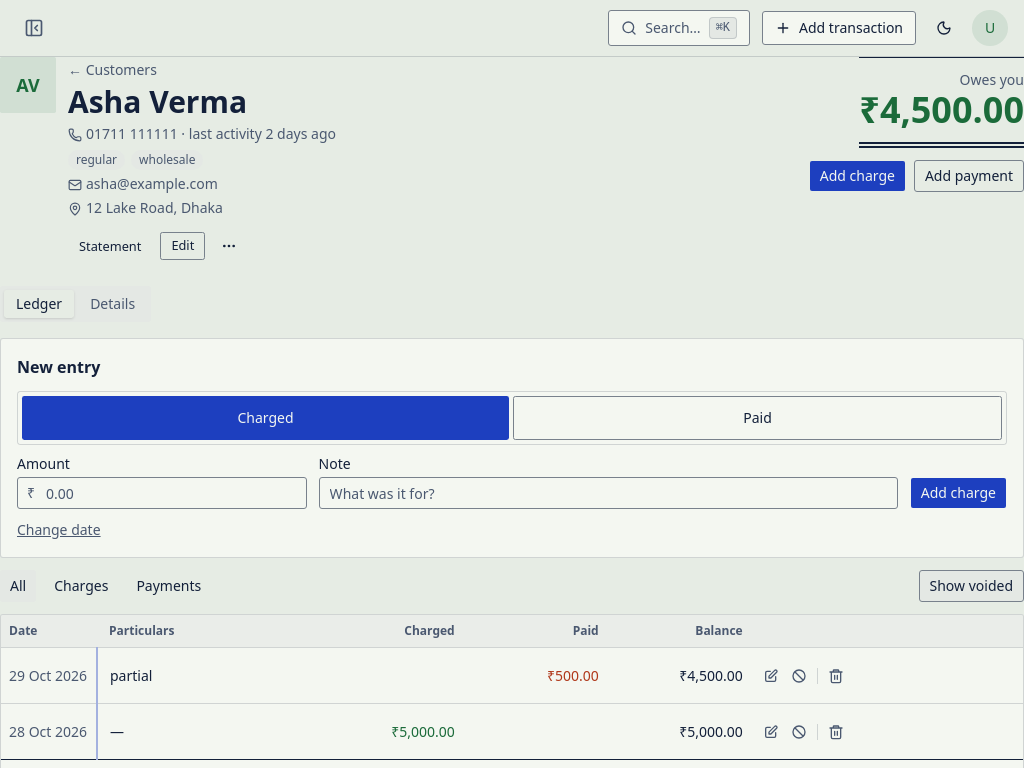
Test: S-31 customer detail v2 › archived: the menu archives through its confirmation, the banner restores, and writes stay hidden while archived
Check: the tab "Ledger" is shown, box [4,290,74,318]
# Owner archives through the header menu + confirmation.
Click the button named "Customer actions": click(229, 246) [213,230,245,262]
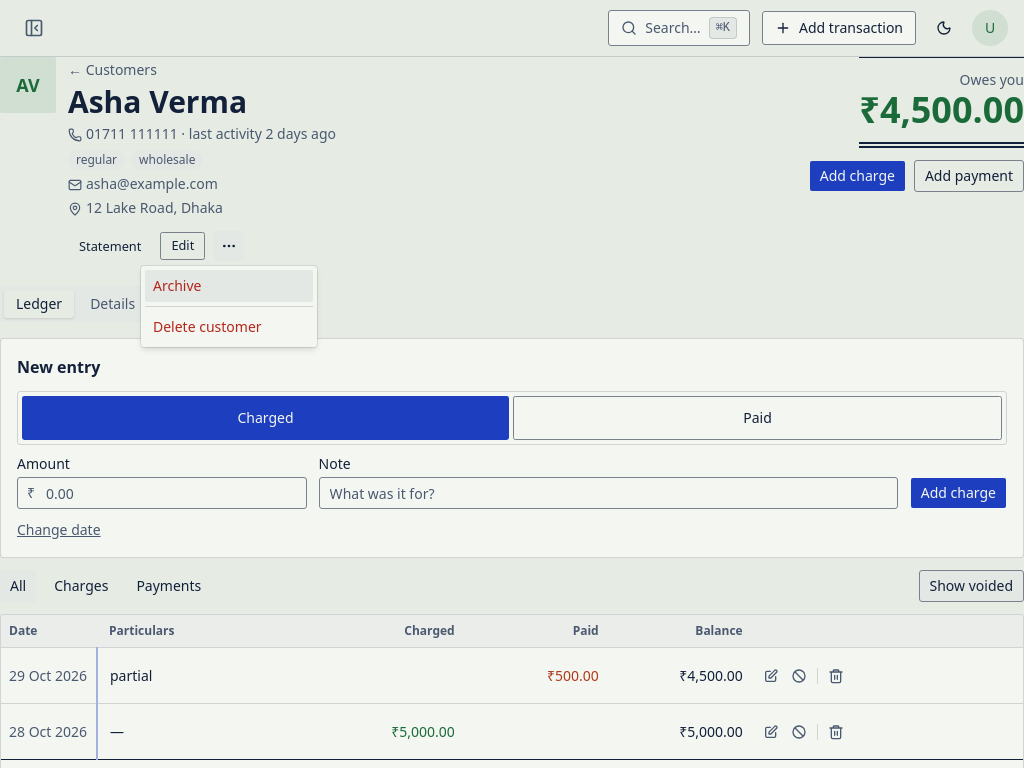
Click the menu item "Archive": click(229, 286) [145,270,313,302]
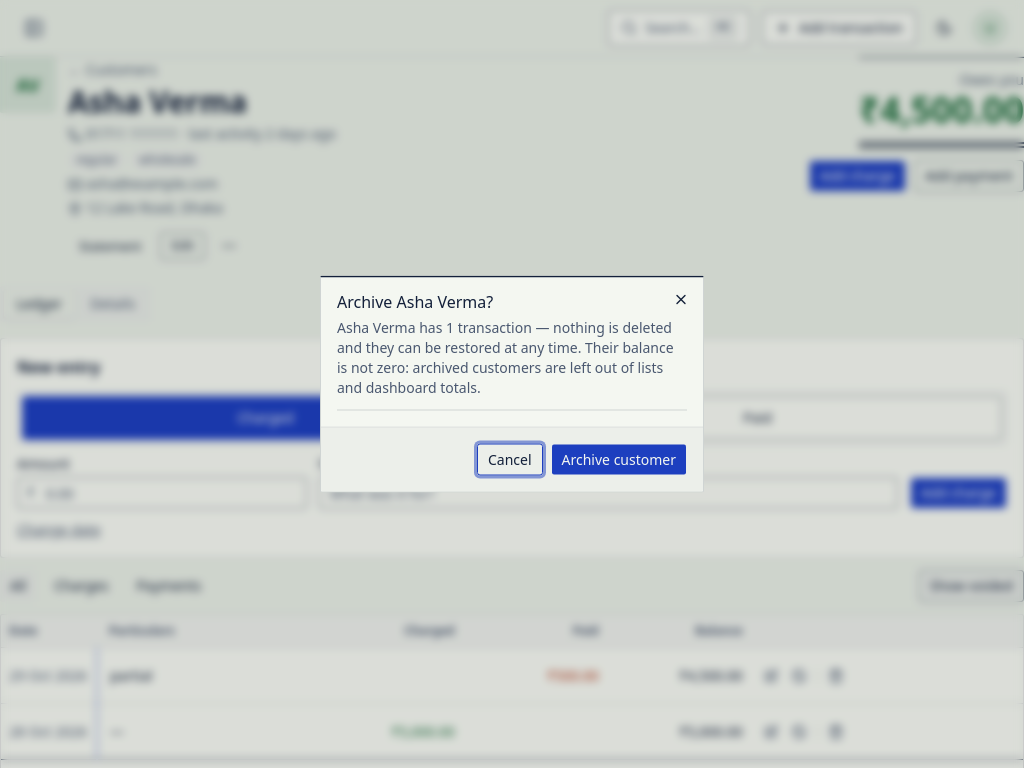
Check: the heading "Archive Asha Verma?" is shown, box [337,290,493,312]
Check: the text "has 1 transaction" is shown, box [337,318,674,396]
Click the button "Archive customer": click(619, 460) [550,444,687,476]
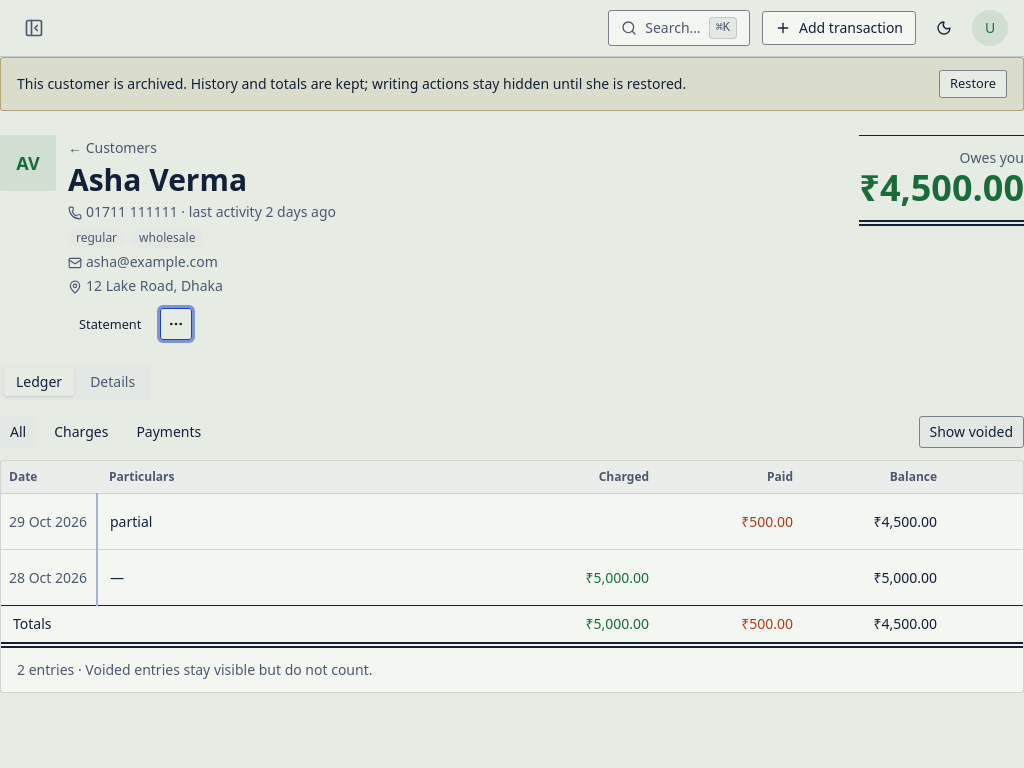
Check: the text "This customer is archived." is shown, box [17,74,187,93]
Check: the text "New entry" is gone
Check: the button "Add charge" is gone
Click the button named "Customer actions": click(176, 324) [160,308,192,340]
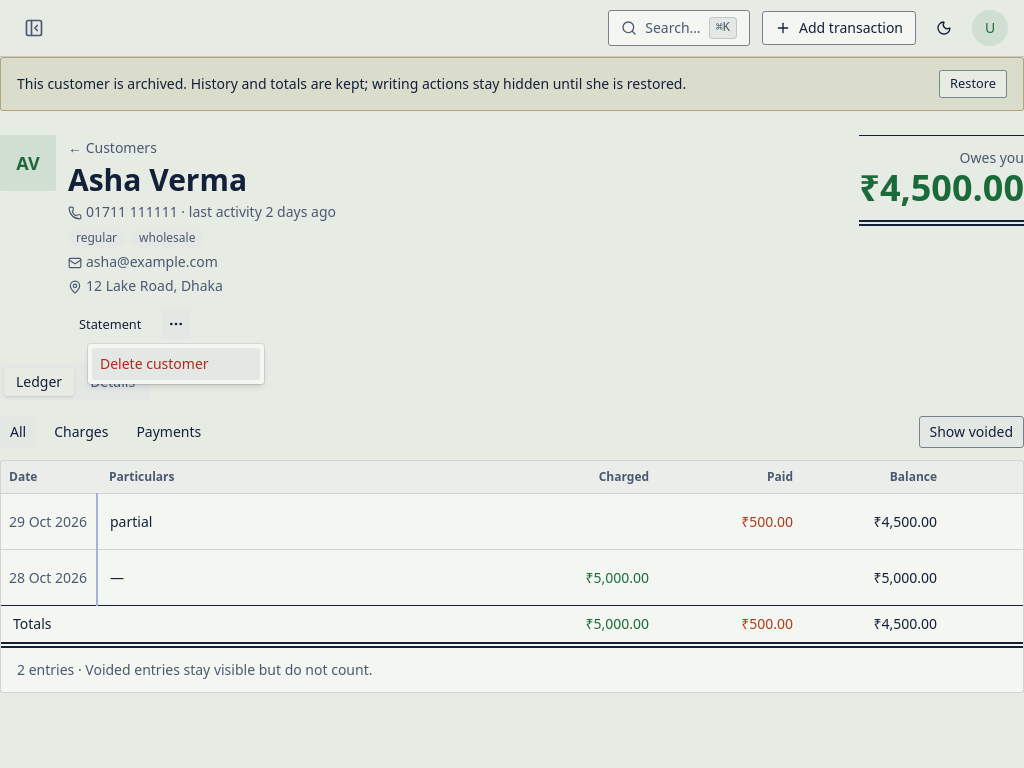
Check: the menu items read "Delete customer", in this order, box [92,348,260,380]
Click the button named "Customer actions": click(176, 324) [160,308,192,340]
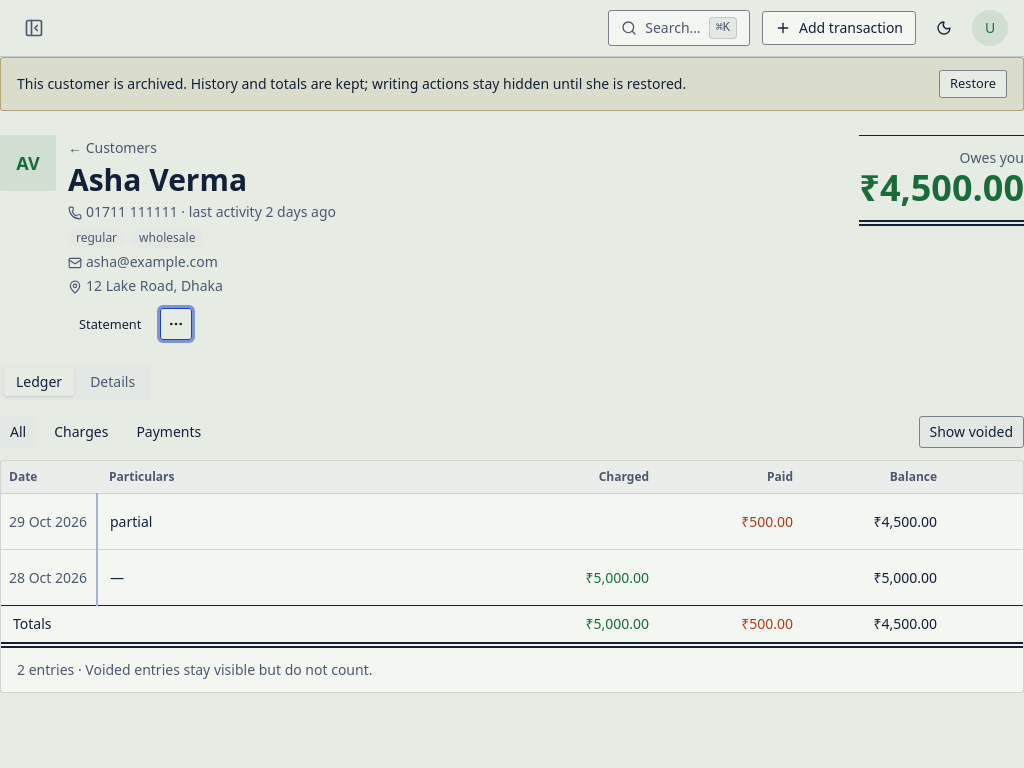
Check: the tab "Ledger" is shown, box [4,368,74,396]
Check: the menu is gone
# The banner's Restore brings it all back.
Click the button "Restore": click(973, 84) [939,70,1007,98]
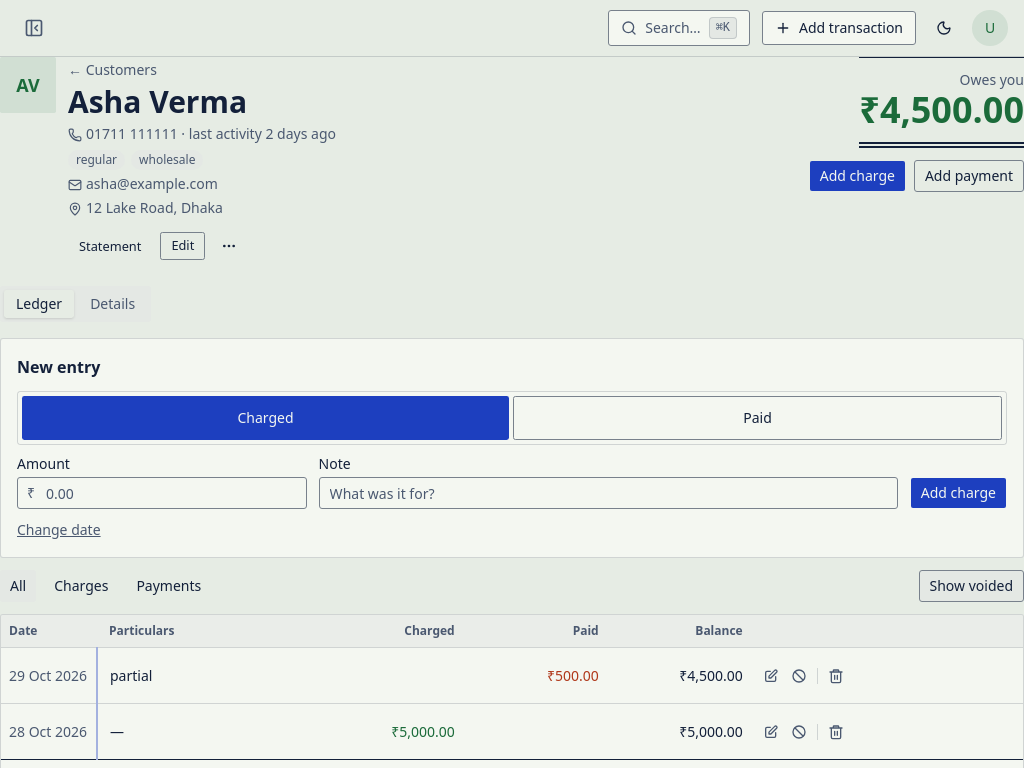
Check: the text "This customer is archived." is gone
Check: the button "Add charge" below "Owes you" is shown, box [809,160,906,192]
Check: the element "New entry" is shown, box [0,338,1023,558]
